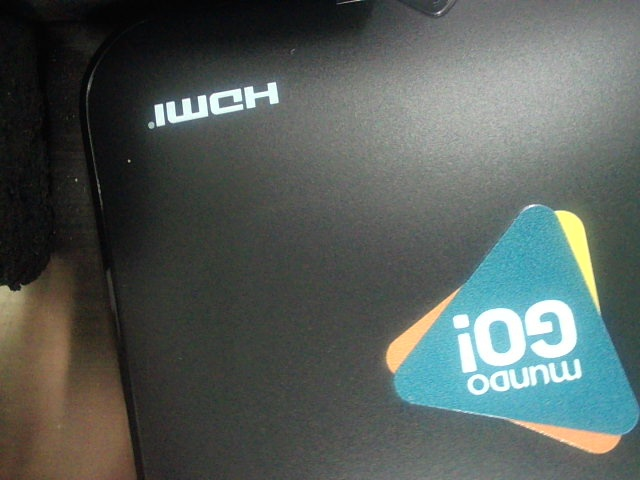AP_IPGMundoGO: (371, 194, 639, 456)
